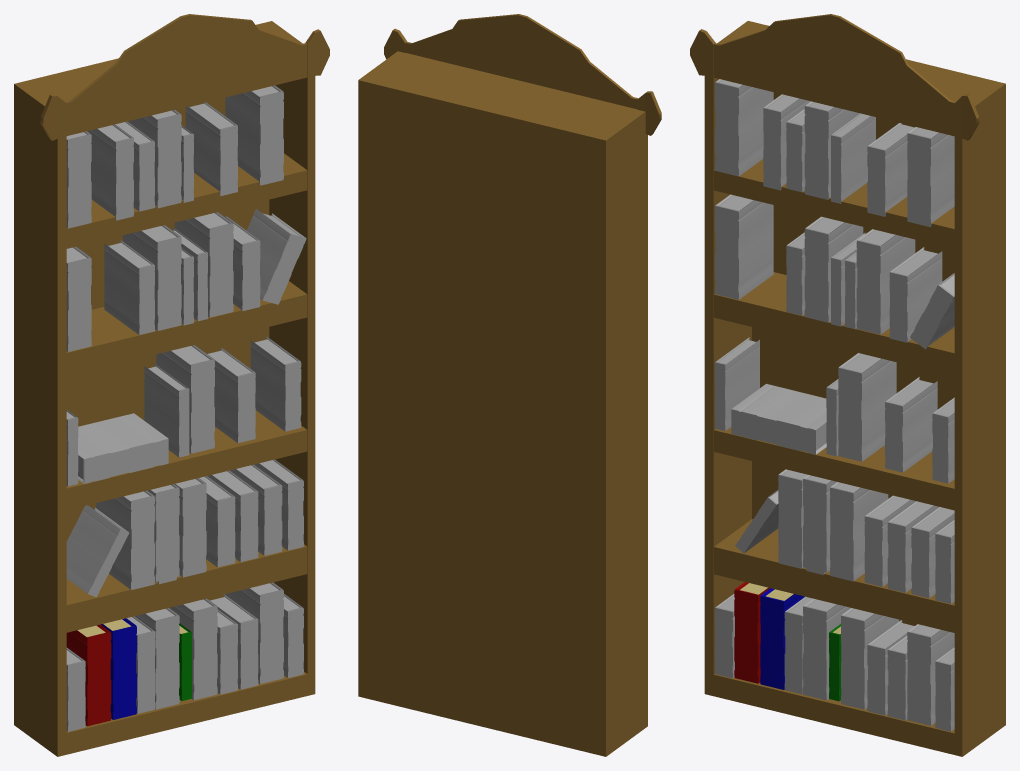
Rendered from Mansion_BookCase2.fbx.
3 renders of one model, left to right at view 1: azimuth 30°, elevation 25°; view 2: azimuth 150°, elevation 25°; view 3: azimuth 330°, elevation 25°, orthographic. The views are drawn at different scales.
Parts seen in each view (by area): view 1: pCube46; view 2: pCube46; view 3: pCube46.
Boxes of the visible parts, x1=… form: pCube46: x1=14, y1=14, x2=329, y2=756; pCube46: x1=358, y1=14, x2=661, y2=756; pCube46: x1=690, y1=14, x2=1005, y2=756.
Size of the model in its own units: 91.36 by 24.07 by 216.
